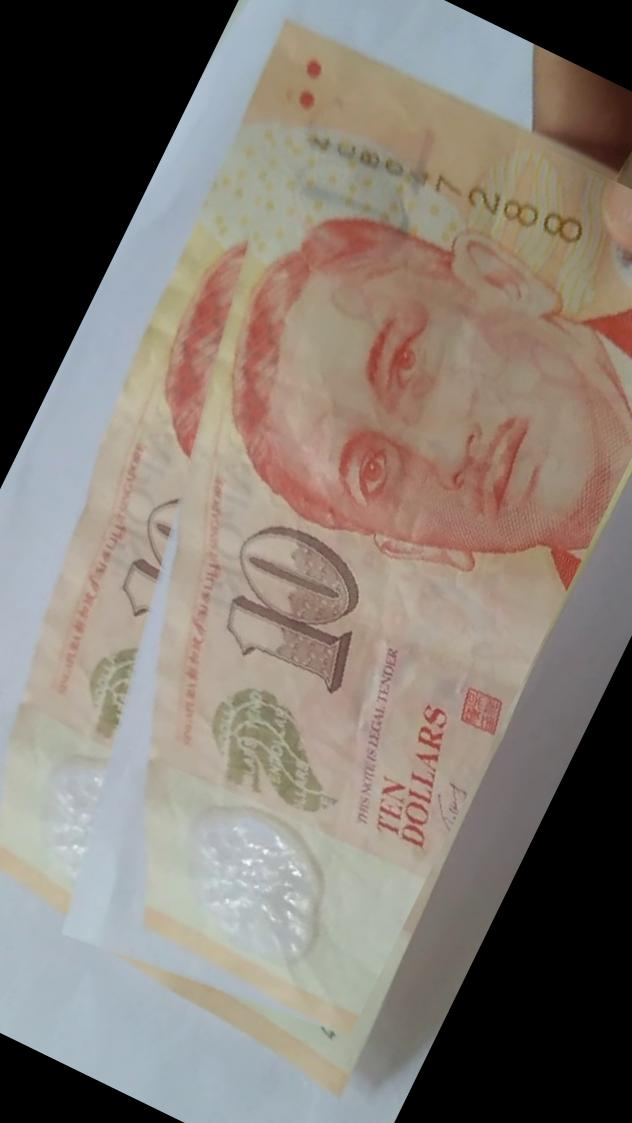10SingaporeDollar: (0, 30, 632, 1067)
